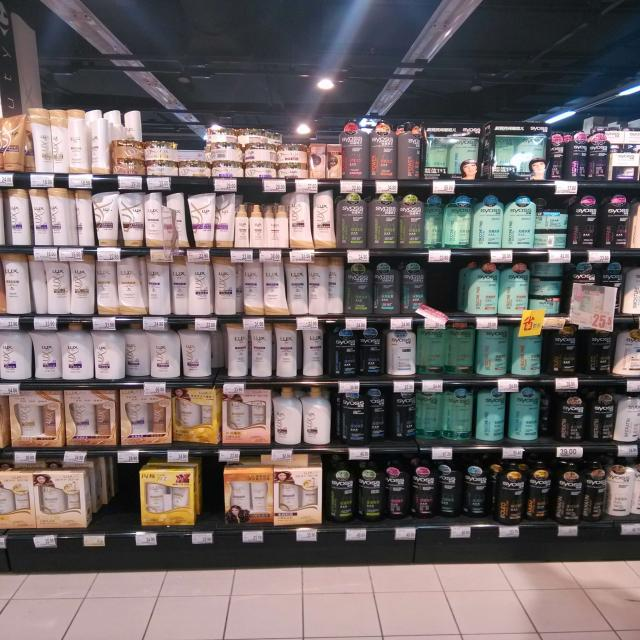void: (90, 466, 138, 526), (434, 260, 464, 313)
